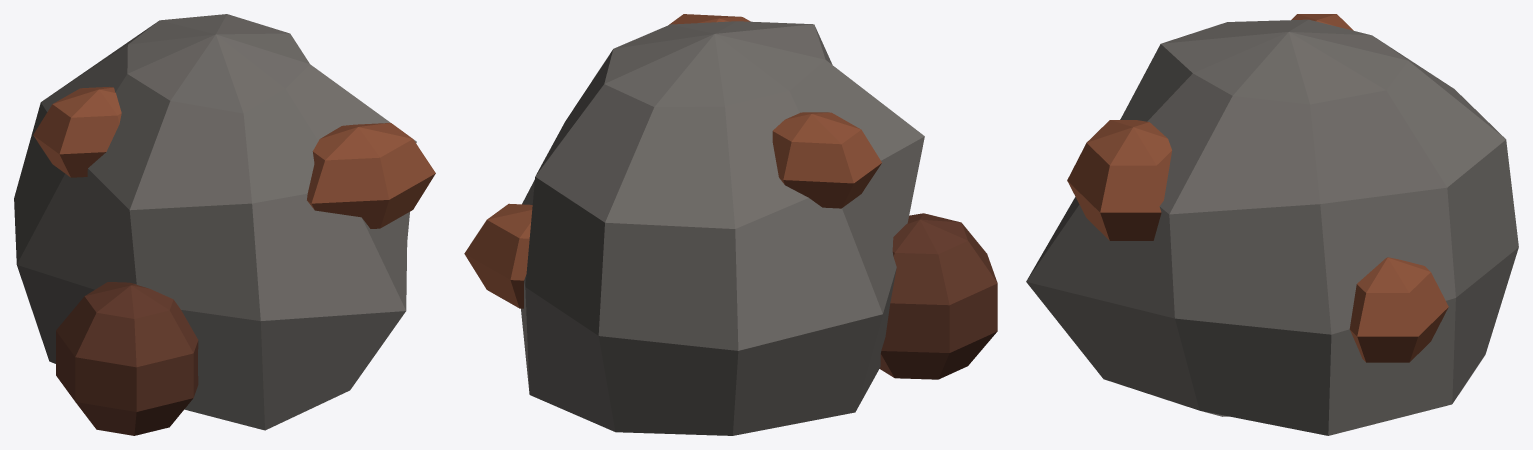
The model's file is ore_rock_2.glb.
The picture shows the model from 3 angles, left to right: view 1: azimuth 30°, elevation 25°; view 2: azimuth 150°, elevation 25°; view 3: azimuth 270°, elevation 25°; orthographic projection. The views are drawn at different scales.
Visible parts, largest first — view 1: ore_rock_2; view 2: ore_rock_2; view 3: ore_rock_2.
Part boxes in pixels (left/top/right/bottom): ore_rock_2: left=14, top=14, right=435, bottom=435; ore_rock_2: left=464, top=14, right=997, bottom=435; ore_rock_2: left=1026, top=14, right=1518, bottom=435.
Bounding box in the file's own units: 1.63 × 1.34 × 1.74.
